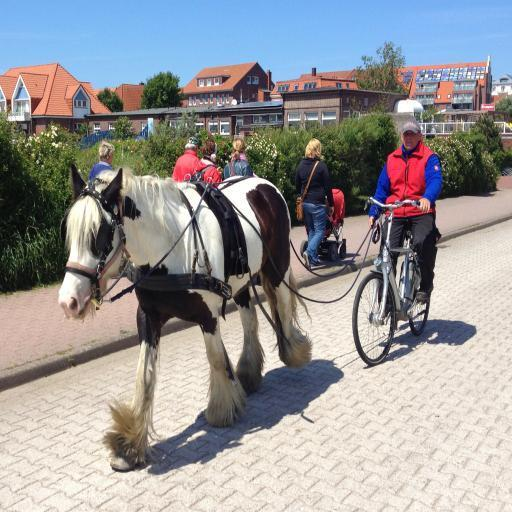horse: (58, 160, 316, 472)
